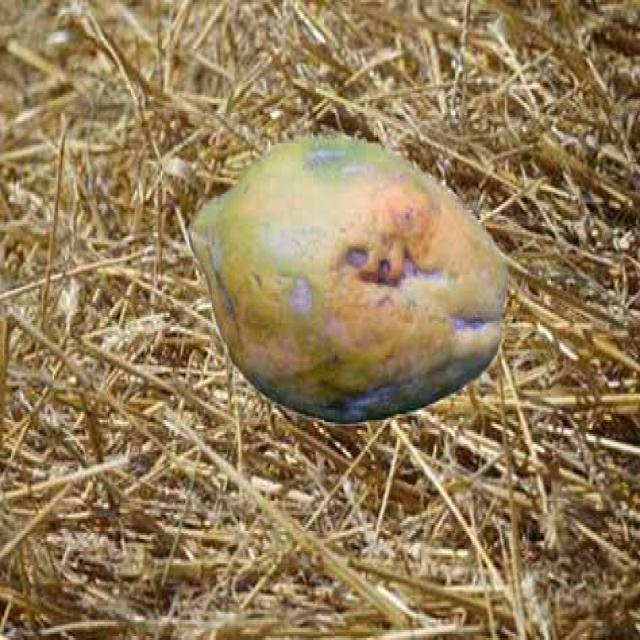Pepaya rippen: (187, 129, 510, 430)
